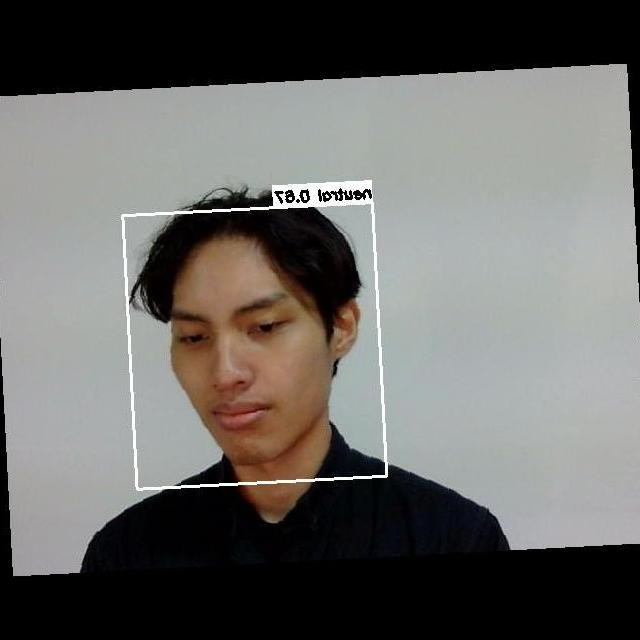Fear: (160, 274, 339, 456)
